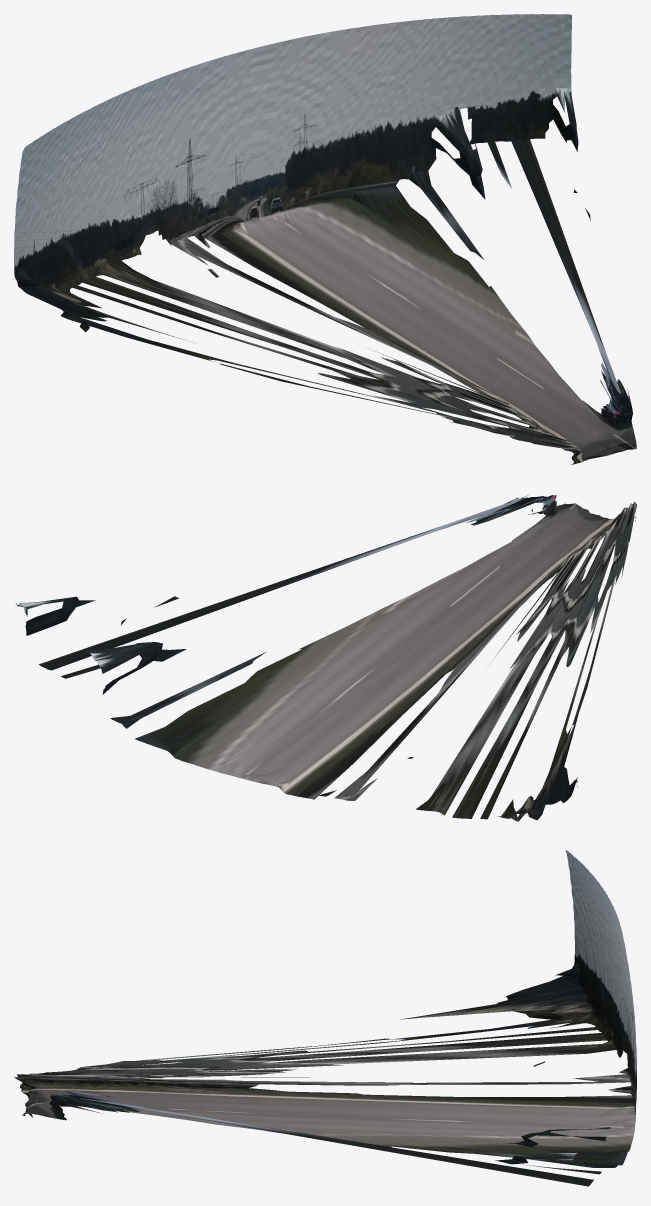
3 renders of one model, top to bottom at view 1: azimuth 30°, elevation 25°; view 2: azimuth 150°, elevation 25°; view 3: azimuth 270°, elevation 25°, orthographic. The views are drawn at different scales.
Visible parts, largest first — view 1: defaultobject; view 2: defaultobject; view 3: defaultobject.
Part boxes in pixels (box(x1,y1,x2,y2)): defaultobject: box(14, 14, 636, 464); defaultobject: box(15, 495, 636, 821); defaultobject: box(14, 850, 636, 1186).
Size of the model in its own units: 41.11 by 13.16 by 45.01.
1 material, 1 textured.
